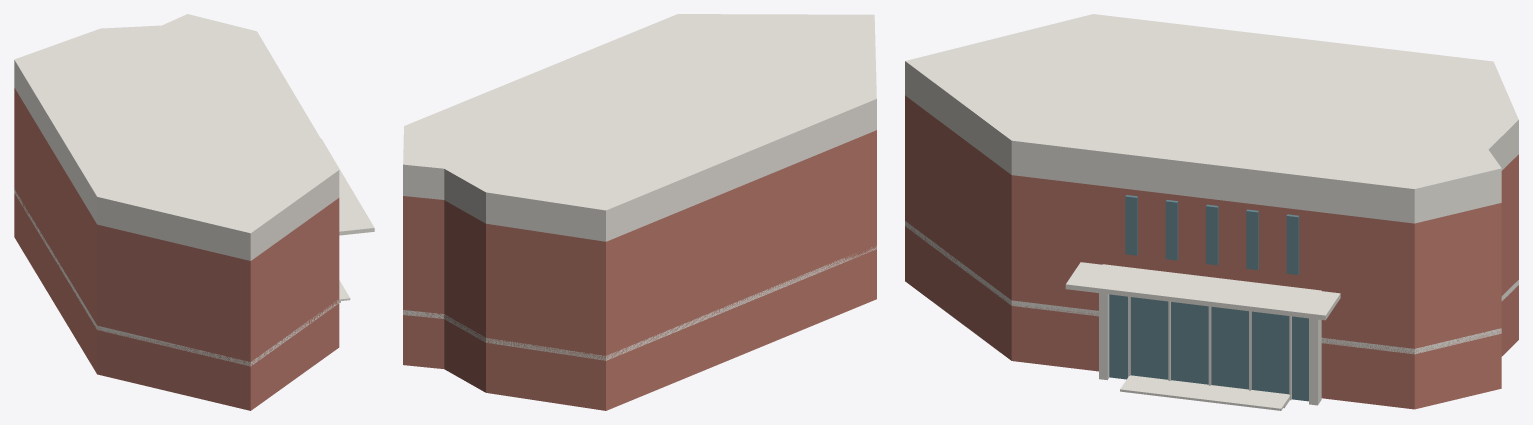
The model's file is anita.glb.
3 renders of one model, left to right at view 1: azimuth 30°, elevation 25°; view 2: azimuth 150°, elevation 25°; view 3: azimuth 270°, elevation 25°, orthographic. The views are drawn at different scales.
Visible parts, largest first — view 1: ACL_parapet, ACL_tower, ACL_podium, ACL_roof_slab, ACL_band_0, ACL_portal_canopy; view 2: ACL_parapet, ACL_tower, ACL_podium, ACL_roof_slab, ACL_band_0; view 3: ACL_parapet, ACL_tower, ACL_podium, ACL_portal_glass, ACL_portal_canopy, ACL_roof_slab, ACL_step_1, ACL_band_0, ACL_portal_side_1, ACL_portal_side_0, ACL_slit_4, ACL_slit_1 (+3 smaller).
Part boxes in pixels (x1,y1,x2,y2): ACL_parapet: (14,14,339,254); ACL_tower: (14,88,339,365); ACL_podium: (14,193,339,410); ACL_roof_slab: (14,81,339,260); ACL_band_0: (14,189,339,366); ACL_portal_canopy: (321,138,374,235); ACL_parapet: (403,14,876,234); ACL_tower: (403,130,876,360); ACL_podium: (403,249,876,410); ACL_roof_slab: (403,122,876,241); ACL_band_0: (403,246,876,360); ACL_parapet: (905,14,1518,215); ACL_tower: (905,95,1518,353); ACL_podium: (905,226,1518,409); ACL_portal_glass: (1109,294,1308,401); ACL_portal_canopy: (1065,262,1340,320); ACL_roof_slab: (905,87,1518,223); ACL_step_1: (1120,375,1290,410); ACL_band_0: (905,221,1518,354); ACL_portal_side_1: (1309,318,1321,405); ACL_portal_side_0: (1099,293,1109,380); ACL_slit_4: (1286,214,1299,274); ACL_slit_1: (1165,200,1178,260).
Bounding box in the file's own units: 29.98 × 16 × 40.39.
